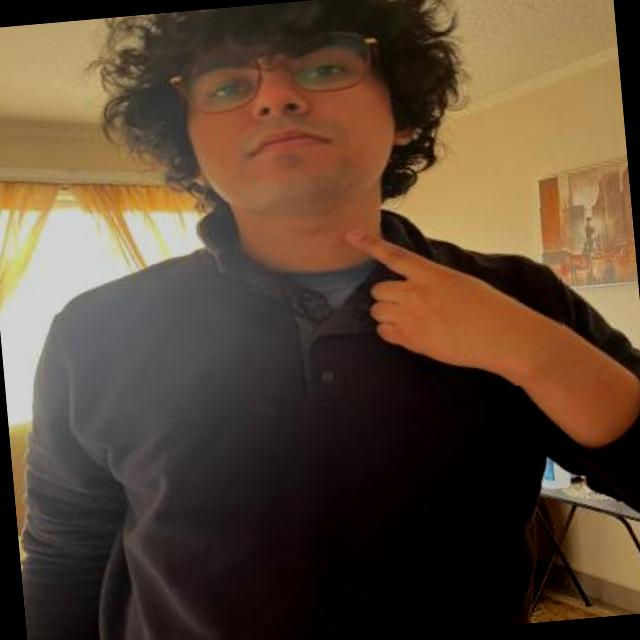Q: (318, 184, 570, 402)
